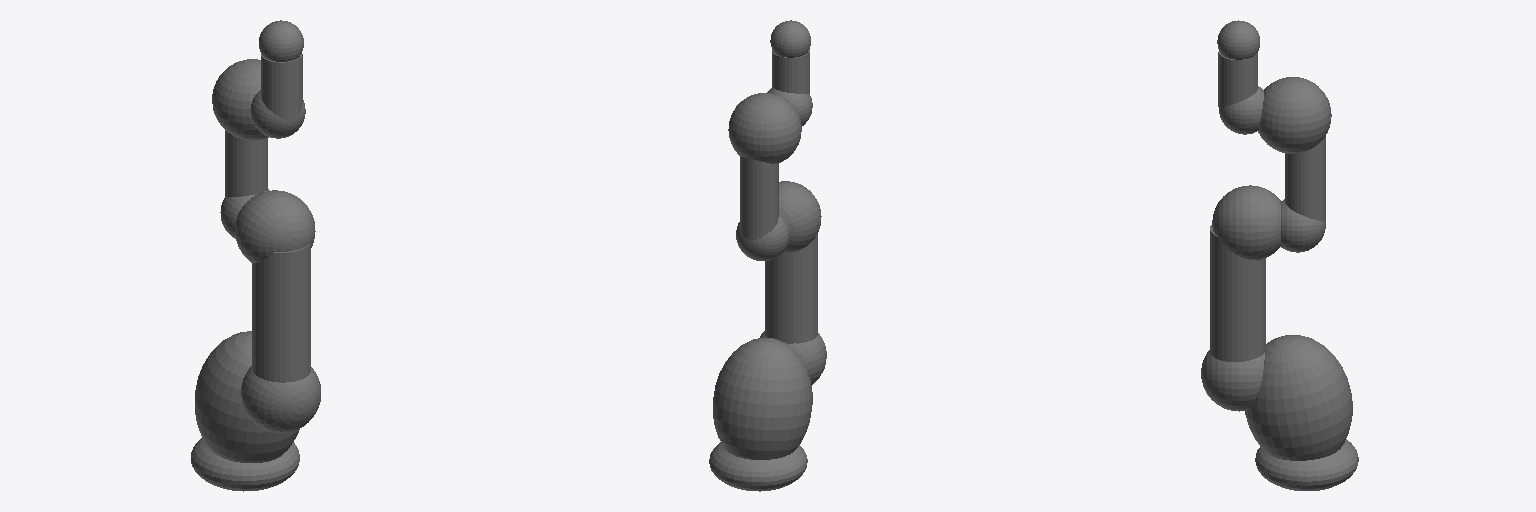
robot.urdf — indy7:
<?xml version="1.0" ?>
<!-- =================================================================================== -->
<!-- |    This document was autogenerated by xacro from indy7.xacro                    | -->
<!-- |    EDITING THIS FILE BY HAND IS NOT RECOMMENDED                                 | -->
<!-- =================================================================================== -->
<robot name="indy7" xmlns:xacro="http://ros.org/wiki/xacro">
  <material name="black">
    <color rgba="0.0 0.0 0.0 1.0"/>
  </material>
  <material name="blue">
    <color rgba="0.0 0.0 0.8 1.0"/>
  </material>
  <material name="green">
    <color rgba="0.0 0.8 0.0 1.0"/>
  </material>
  <material name="grey_">
    <color rgba="0.2 0.2 0.2 1.0"/>
  </material>
  <material name="orange">
    <color rgba="1.0 0.423529411765 0.0392156862745 1.0"/>
  </material>
  <material name="brown">
    <color rgba="0.870588235294 0.811764705882 0.764705882353 1.0"/>
  </material>
  <material name="red">
    <color rgba="0.8 0.0 0.0 1.0"/>
  </material>
  <material name="white">
    <color rgba="1.0 1.0 1.0 1.0"/>
  </material>
  <material name="metal">
    <color rgba="0.768627450980392 0.749019607843137 0.729411764705882 1"/>
  </material>
  <material name="metal_grey">
    <color rgba="0.501960784313725 0.501960784313725 0.501960784313725 1"/>
  </material>
  <material name="metal_white">
    <color rgba="0.866666666666667 0.866666666666667 0.890196078431373 1"/>
  </material>

  <!-- <material name="grey"> <color rgba="0.5 0.5 0.5 1"/> </material> -->
  <link name="base_link"/>

  <link name="link0">
    <visual>
      <origin rpy="0 0 0" xyz="0 0 0"/>
      <geometry>
        <mesh filename="meshes/stl/Indy7_0.stl"/>
      </geometry>
      <material name="metal_grey"/>
    </visual>
    <collision>
      <origin rpy="0 0 0" xyz="0 0 0"/>
      <geometry>
        <cylinder length="0.075" radius="0.102"/>
      </geometry>
    </collision>
    <inertial>
      <origin rpy="0 0 0" xyz="0 0 0"/>
      <mass value="1.59306955"/>
      <inertia ixx="+0.00572623" ixy="+0.00000251" ixz="-0.00011380" iyy="+0.00558959" iyz="-0.00000014" izz="+0.00966674"/>
    </inertial>
  </link>
  <link name="link1">
    <visual>
      <origin rpy="0 0 0" xyz="0 0 0"/>
      <geometry>
        <mesh filename="meshes/stl/Indy7_1.stl"/>
      </geometry>
      <material name="metal_grey"/>
    </visual>
    <collision>
      <origin rpy="0 0 0" xyz="0 0 0.111"/>
      <geometry>
        <cylinder length="0.222" radius="0.075"/>
      </geometry>
    </collision>
    <collision>
      <origin rpy="1.57079632679 0 0" xyz="0 -0.0545 0.222"/>
      <geometry>
        <cylinder length="0.109" radius="0.075"/>
      </geometry>
    </collision>
    <inertial>
      <origin rpy="0 0 0" xyz="0 0 0"/>
      <mass value="11.8030102"/>
      <inertia ixx="+0.15418559" ixy="-0.00000235" ixz="+0.00001739" iyy="+0.12937017" iyz="-0.04854267" izz="+0.05964415"/>
    </inertial>
  </link>
  <link name="link2">
    <visual>
      <origin rpy="0 0 0" xyz="0 0 0"/>
      <geometry>
        <mesh filename="meshes/stl/Indy7_2.stl"/>
      </geometry>
      <material name="metal_grey"/>
    </visual>
    <collision>
      <origin rpy="1.57079632679 0 -1.57079632679" xyz="-0.225 0 0.09"/>
      <geometry>
        <cylinder length="0.450" radius="0.063"/>
      </geometry>
    </collision>
    <collision>
      <origin rpy="0 0 0" xyz="0 0 0.045"/>
      <geometry>
        <cylinder length="0.09" radius="0.075"/>
      </geometry>
    </collision>
    <collision>
      <origin rpy="0 0 0" xyz="-0.45 0 0.02975 "/>
      <geometry>
        <cylinder length="0.1205" radius="0.045"/>
      </geometry>
    </collision>
    <inertial>
      <origin rpy="0 0 0" xyz="0 0 0"/>
      <mass value="7.99292141"/>
      <inertia ixx="+0.29356980" ixy="-0.00000040" ixz="+0.00001441" iyy="+0.28094142" iyz="+0.03727972" izz="+0.03620609"/>
    </inertial>
  </link>
  <link name="link3">
    <visual>
      <origin rpy="0 0 0" xyz="0 0 0"/>
      <geometry>
        <mesh filename="meshes/stl/Indy7_3.stl"/>
      </geometry>
      <material name="metal_grey"/>
    </visual>
    <collision>
      <origin rpy="1.57079632679 0 -1.57079632679" xyz="-0.1335 0 -0.075"/>
      <geometry>
        <cylinder length="0.267" radius="0.045"/>
      </geometry>
    </collision>
    <collision>
      <origin rpy="0 0 0" xyz="0 0 -0.0375"/>
      <geometry>
        <cylinder length="0.075" radius="0.045"/>
      </geometry>
    </collision>
    <inertial>
      <origin rpy="0 0 0" xyz="0 0 0"/>
      <mass value="2.99134127"/>
      <inertia ixx="+0.03424593" ixy="+0.00000149" ixz="+0.00000724" iyy="+0.03406024" iyz="+0.00186009" izz="+0.00450477"/>
    </inertial>
  </link>
  <link name="link4">
    <visual>
      <origin rpy="0 0 0" xyz="0 0 0"/>
      <geometry>
        <mesh filename="meshes/stl/Indy7_4.stl"/>
      </geometry>
      <material name="metal_grey"/>
    </visual>
    <collision>
      <origin rpy="1.57079632679 0 0" xyz="0 -0.057 0.083"/>
      <geometry>
        <cylinder length="0.114" radius="0.045"/>
      </geometry>
    </collision>
    <collision>
      <origin rpy="1.57079632679 0 0" xyz="0 -0.057 0.083"/>
      <geometry>
        <cylinder length="0.114" radius="0.045"/>
      </geometry>
    </collision>
    <collision>
      <origin rpy="0 0 0" xyz="0 0 0.0415"/>
      <geometry>
        <cylinder length="0.083" radius="0.045"/>
      </geometry>
    </collision>
    <inertial>
      <origin rpy="0 0 0" xyz="0 0 0"/>
      <mass value="2.12317035"/>
      <inertia ixx="+0.00670405" ixy="+0.00000375" ixz="+0.00000150" iyy="+0.00279246" iyz="-0.00127967" izz="+0.00619341"/>
    </inertial>
  </link>
  <link name="link5">
    <visual>
      <origin rpy="0 0 0" xyz="0 0 0"/>
      <geometry>
        <mesh filename="meshes/stl/Indy7_5.stl"/>
      </geometry>
      <material name="metal_grey"/>
    </visual>
    <collision>
      <origin rpy="1.57079632679 0 -1.57079632679" xyz="-0.084 0 0.069"/>
      <geometry>
        <cylinder length="0.168" radius="0.045"/>
      </geometry>
    </collision>
    <collision>
      <origin rpy="0 0 0" xyz="-0 0 0.0345"/>
      <geometry>
        <cylinder length="0.069" radius="0.045"/>
      </geometry>
    </collision>
    <inertial>
      <origin rpy="0 0 0" xyz="0 0 0"/>
      <mass value="2.28865091"/>
      <inertia ixx="+0.00994891" ixy="+0.00000014" ixz="+0.00000321" iyy="+0.00978189" iyz="-0.00093546" izz="+0.00271492"/>
    </inertial>
  </link>
  <link name="link6">
    <visual>
      <origin rpy="0 0 0" xyz="0 0 0"/>
      <geometry>
        <mesh filename="meshes/stl/Indy7_6.stl"/>
      </geometry>
      <material name="metal_grey"/>
    </visual>
    <collision>
      <origin rpy="0 0 0" xyz="0 0 0.03"/>
      <geometry>
        <cylinder length="1.16" radius="0.045"/>
      </geometry>
    </collision>
    <inertial>
      <origin rpy="0 0 0" xyz="0 0 0"/>
      <mass value="0.40083918"/>
      <inertia ixx="0.00043534" ixy="+0.00000013" ixz="-0.00000002" iyy="0.00044549" iyz="+0.00000051" izz="0.00059634"/>
    </inertial>
  </link>
  <link name="tcp"/>
   <joint name="base_joint" type="fixed">
    <parent link="base_link"/>
    <child link="link0"/>
    <origin rpy="0 0 0" xyz="0 0 0"/>
    <axis xyz="0 0 1"/>
    <limit effort="10" lower="-3.05432619099" upper="3.05432619099" velocity="1"/>
  </joint>
  <joint name="joint0" type="revolute">
    <parent link="link0"/>
    <child link="link1"/>
    <origin rpy="0 0 0" xyz="0 0 0.0775"/>
    <axis xyz="0 0 1"/>
    <limit effort="10" lower="-3.05432619099" upper="3.05432619099" velocity="1"/>
  </joint>
  <joint name="joint1" type="revolute">
    <parent link="link1"/>
    <child link="link2"/>
    <origin rpy="1.57079632679 1.57079632679 0" xyz="0 -0.10900000 0.22200000"/>
    <axis xyz="0 0 1"/>
    <limit effort="10" lower="-3.05432619099" upper="3.05432619099" velocity="1"/>
  </joint>
  <joint name="joint2" type="revolute">
    <parent link="link2"/>
    <child link="link3"/>
    <origin rpy="0 0 0" xyz="-0.45000000 +0.00000000 -0.03050000"/>
    <axis xyz="0 0 1"/>
    <limit effort="10" lower="-3.05432619099" upper="3.05432619099" velocity="1"/>
  </joint>
  <joint name="joint3" type="revolute">
    <parent link="link3"/>
    <child link="link4"/>
    <origin rpy="-1.57079632679 0 1.57079632679" xyz="-0.26700000 +0.00000000 -0.07500000"/>
    <axis xyz="0 0 1"/>
    <limit effort="10" lower="-3.05432619099" upper="3.05432619099" velocity="1"/>
  </joint>
  <joint name="joint4" type="revolute">
    <parent link="link4"/>
    <child link="link5"/>
    <origin rpy="1.57079632679 1.57079632679 0" xyz="+0.00000000 -0.11400000 +0.08300000"/>
    <axis xyz="0 0 1"/>
    <limit effort="10" lower="-3.05432619099" upper="3.05432619099" velocity="1"/>
  </joint>
  <joint name="joint5" type="revolute">
    <parent link="link5"/>
    <child link="link6"/>
    <origin rpy="-1.57079632679 0 1.57079632679" xyz="-0.16800000 +0.00000000 +0.06900000"/>
    <axis xyz="0 0 1"/>
    <limit effort="10" lower="-3.75245789179" upper="3.75245789179" velocity="1"/>
  </joint>
  <joint name="tcp" type="fixed">
    <parent link="link6"/>
    <child link="tcp"/>
    <origin rpy="0 0 0" xyz="0 0 0.06"/>
  </joint>
<link name="world"/>
  <joint name="world_joint" type="fixed">
    <parent link="world"/>
    <child link="base_link"/>
    <origin rpy="0.0 0.0 0.0" xyz="1.5 1.5 0.0"/>
  </joint>
</robot>

--- Facts derived from the render (not from the file) ---
Views: 3 orthographic renders of the robot side by side, from view 1: azimuth 30°, elevation 25°; view 2: azimuth 150°, elevation 25°; view 3: azimuth 270°, elevation 25°.
Model indy7 with 10 links and 9 joints (6 revolute, 3 fixed), rooted at world, posed every joint at zero.
Links seen in each view (by area): view 1: link2, link1, link5, link0, link3, link4, link6; view 2: link1, link2, link3, link4, link0, link5, link6; view 3: link2, link1, link4, link3, link5, link0, link6.
Link boxes in pixels (x1=…): link2: x1=235, y1=190, x2=320, y2=432; link1: x1=195, y1=331, x2=299, y2=462; link5: x1=250, y1=54, x2=305, y2=138; link0: x1=191, y1=438, x2=299, y2=491; link3: x1=220, y1=130, x2=269, y2=238; link4: x1=212, y1=59, x2=268, y2=140; link6: x1=259, y1=20, x2=303, y2=61; link1: x1=713, y1=338, x2=812, y2=459; link2: x1=760, y1=181, x2=826, y2=384; link3: x1=736, y1=156, x2=789, y2=260; link4: x1=728, y1=93, x2=801, y2=163; link0: x1=709, y1=442, x2=807, y2=491; link5: x1=767, y1=49, x2=812, y2=125; link6: x1=770, y1=20, x2=810, y2=57; link2: x1=1201, y1=185, x2=1280, y2=411; link1: x1=1245, y1=335, x2=1352, y2=460; link4: x1=1258, y1=77, x2=1331, y2=153; link3: x1=1280, y1=136, x2=1325, y2=252; link5: x1=1218, y1=51, x2=1263, y2=134; link0: x1=1255, y1=439, x2=1358, y2=490; link6: x1=1217, y1=20, x2=1259, y2=59.
Bounding box of the posed robot: 0.2853 × 0.4325 × 1.39 m (x, y, z).
7 mesh visuals loaded from 7 distinct referenced files (7 binary STL).
